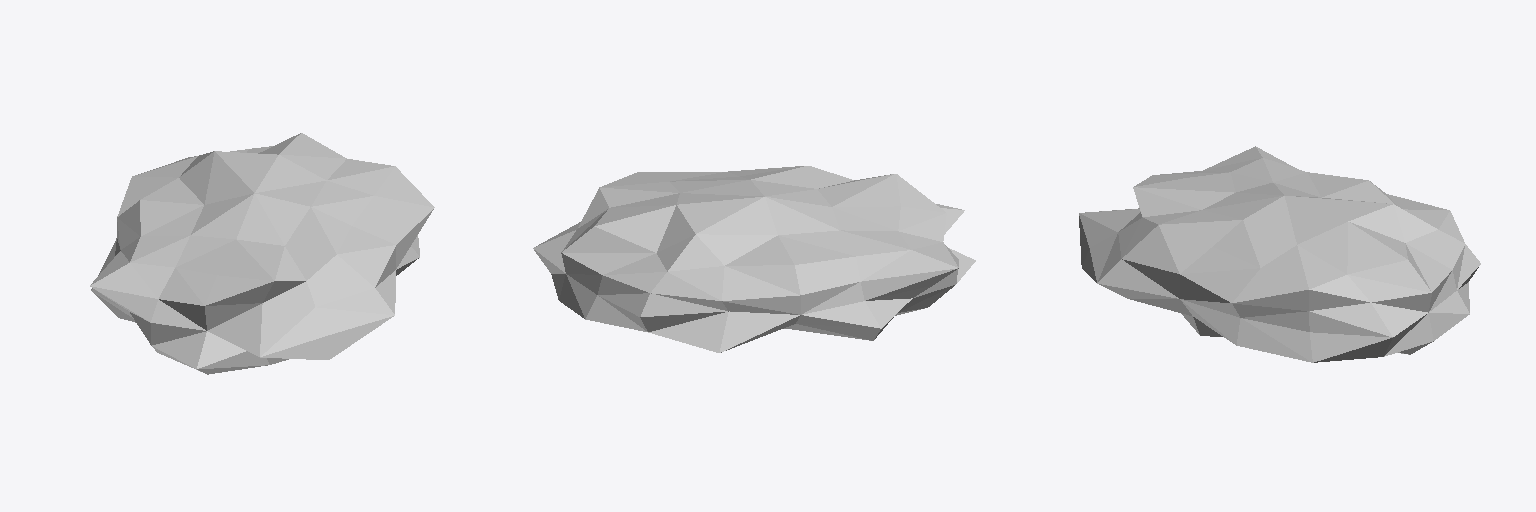
Rendered from cloud.obj.
The picture shows the model from 3 angles: view 1: azimuth 30°, elevation 25°; view 2: azimuth 150°, elevation 25°; view 3: azimuth 270°, elevation 25°; orthographic projection.
Visible parts, largest first — view 1: cloud; view 2: cloud; view 3: cloud.
Boxes of the visible parts, x1=… form: cloud: x1=90, y1=133, x2=434, y2=374; cloud: x1=533, y1=166, x2=975, y2=352; cloud: x1=1079, y1=146, x2=1480, y2=362.
Bounding box in the file's own units: 1.96 × 0.6547 × 1.91.